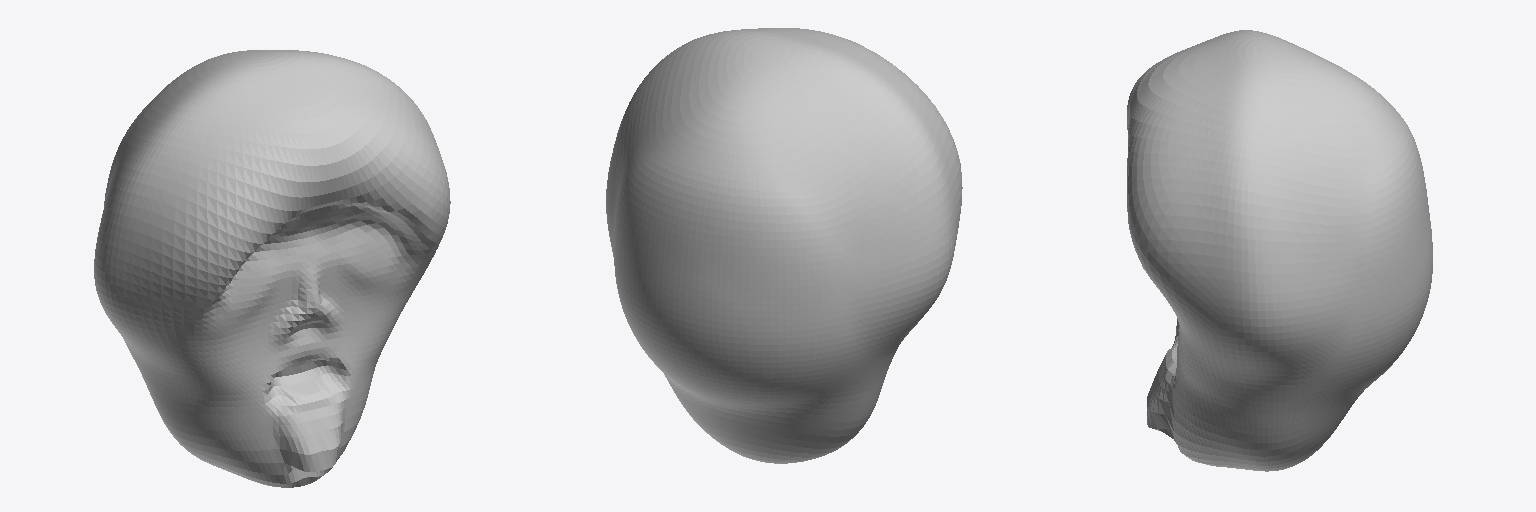
Rendered from funny.obj.
3 renders of one model, left to right at view 1: azimuth 30°, elevation 25°; view 2: azimuth 150°, elevation 25°; view 3: azimuth 270°, elevation 25°, orthographic.
Visible parts, largest first — view 1: Sphere_Sphere.001; view 2: Sphere_Sphere.001; view 3: Sphere_Sphere.001.
Boxes of the visible parts, box(x1,y1,x2,y2) form: Sphere_Sphere.001: box(94, 50, 450, 487); Sphere_Sphere.001: box(606, 28, 962, 463); Sphere_Sphere.001: box(1127, 30, 1432, 471).
Bounding box in the file's own units: 4.25 × 5 × 3.39.